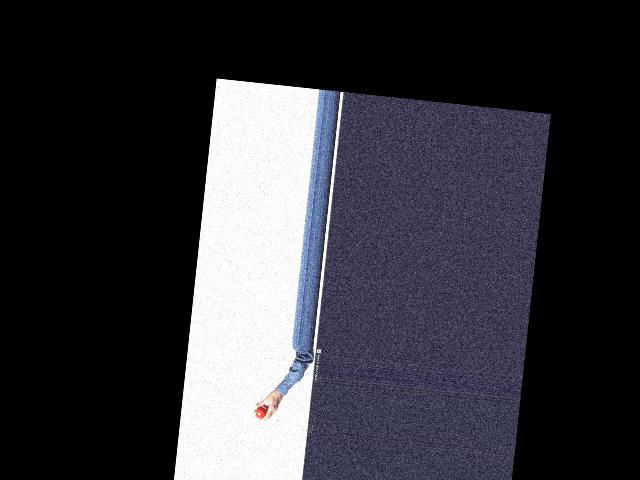tomato: (255, 406, 266, 419)
